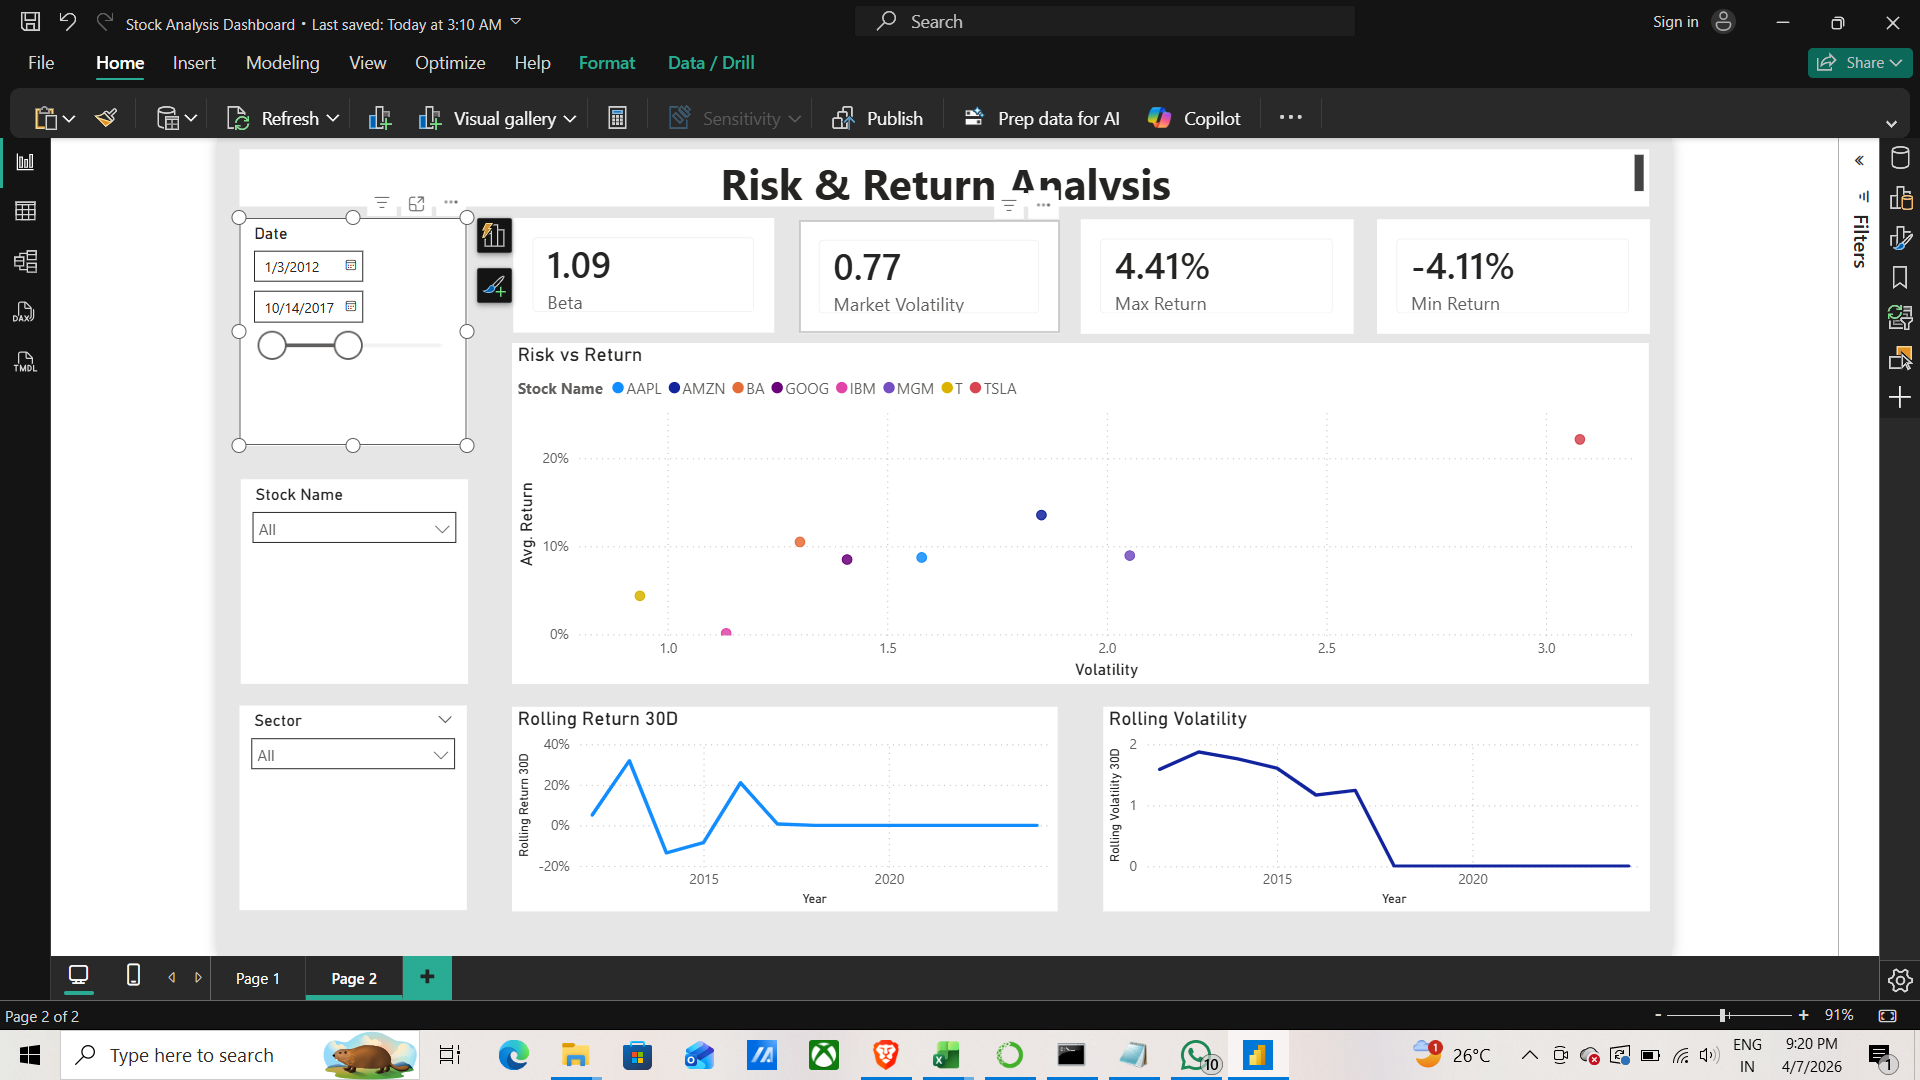

Layout of this report page (visuals, bound fields, positions):
{"tool":"powerbi","page":{"name":"Page 2","canvas":[1280,720],"ordinal":1},"visuals":[{"type":"textbox","box":[20,10,1240,50],"z":0},{"type":"slicer","fields":{"Values":["Dim_Date.Date"]},"box":[20,70,200,200],"z":1000},{"type":"slicer","fields":{"Values":["Dim_Stock.Stock_Name"]},"box":[20.6,300.2,199.7,180.4],"z":2000},{"type":"slicer","fields":{"Values":["Dim_Stock.Sector"]},"box":[19.4,498.7,199.7,180.4],"z":3000},{"type":"cardVisual","fields":{"Data":["Measure.Beta"]},"box":[260.1,69.9,229.4,100.6],"z":4000},{"type":"cardVisual","fields":{"Data":["Measure.Market Volatility"]},"box":[512,72.6,228.8,99.3],"z":5000},{"type":"cardVisual","fields":{"Data":["Measure.Max Return"]},"box":[760.2,71.4,239.7,100.5],"z":6000},{"type":"cardVisual","fields":{"Data":["Measure.Min Return"]},"box":[1020.4,71.4,239.7,100.5],"z":7000},{"type":"scatterChart","title":"Risk vs Return","fields":{"X":["Measure.Volatility"],"Y":["Measure.Avg Daily Return"],"Series":["Dim_Stock.Stock_Name"]},"box":[260,180,1000,300],"z":8000},{"type":"lineChart","title":"Rolling Return 30D","fields":{"Y":["Measure.Rolling Return 30D"],"Category":["Dim_Date.Date.Variation.Date Hierarchy.Year","Dim_Date.Date.Variation.Date Hierarchy.Quarter","Dim_Date.Date.Variation.Date Hierarchy.Month","Dim_Date.Date.Variation.Date Hierarchy.Day"]},"box":[260,500,480,180],"z":9000},{"type":"lineChart","title":"Rolling Volatility","fields":{"Y":["Measure.Rolling Volatility 30D"],"Category":["Dim_Date.Date.Variation.Date Hierarchy.Year","Dim_Date.Date.Variation.Date Hierarchy.Quarter","Dim_Date.Date.Variation.Date Hierarchy.Month","Dim_Date.Date.Variation.Date Hierarchy.Day"]},"box":[780,500.6,480.4,180.3],"z":10000}]}

Visuals, with their boxes on the page's 1280x720 design canvas (x1, y1, x2, y2). These are canvas units, not pixel positions in the 1920x1080 screenshot, which may show the page scaled, cropped or inside an application window:
textbox: [left=20, top=10, right=1260, bottom=60]
slicer - Dim_Date.Date: [left=20, top=70, right=220, bottom=270]
slicer - Dim_Stock.Stock_Name: [left=21, top=300, right=220, bottom=481]
slicer - Dim_Stock.Sector: [left=19, top=499, right=219, bottom=679]
cardVisual - Measure.Beta: [left=260, top=70, right=490, bottom=170]
cardVisual - Measure.Market Volatility: [left=512, top=73, right=741, bottom=172]
cardVisual - Measure.Max Return: [left=760, top=71, right=1000, bottom=172]
cardVisual - Measure.Min Return: [left=1020, top=71, right=1260, bottom=172]
"Risk vs Return" scatterChart: [left=260, top=180, right=1260, bottom=480]
"Rolling Return 30D" lineChart: [left=260, top=500, right=740, bottom=680]
"Rolling Volatility" lineChart: [left=780, top=501, right=1260, bottom=681]
